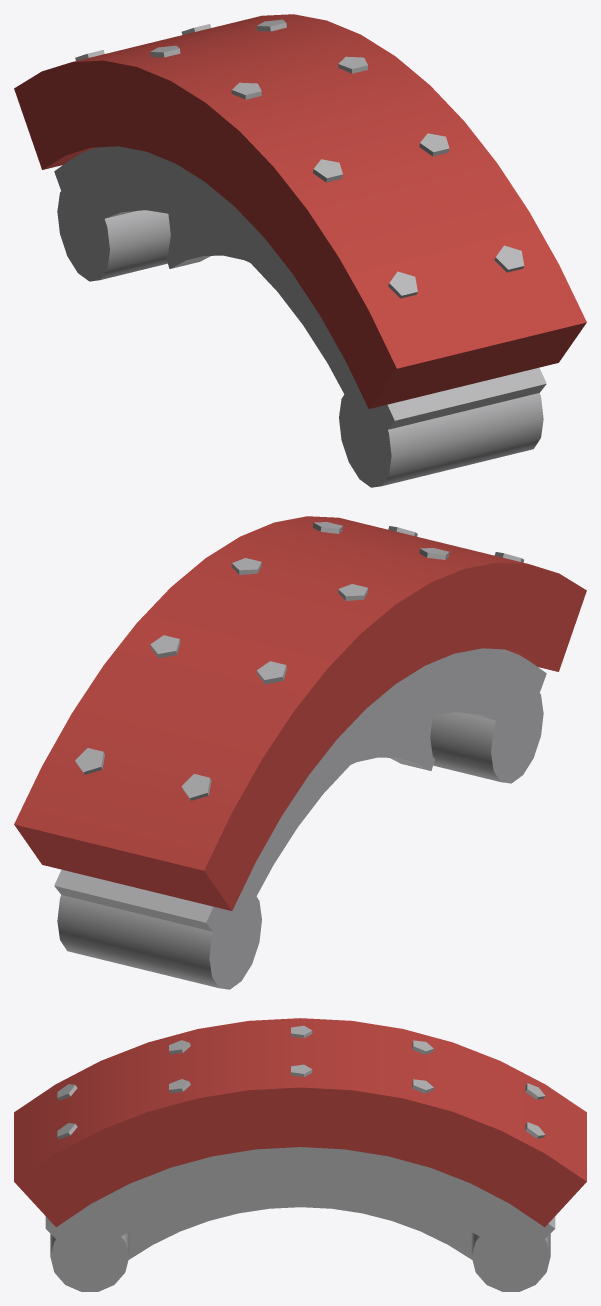
Rendered from drum_shoe.glb.
3 renders of one model, top to bottom at view 1: azimuth 30°, elevation 25°; view 2: azimuth 150°, elevation 25°; view 3: azimuth 270°, elevation 25°, orthographic. The views are drawn at different scales.
Visible parts, largest first — view 1: lod0; view 2: lod0; view 3: lod0.
Boxes of the visible parts, left/top/right/bottom form: lod0: left=14, top=14, right=586, bottom=487; lod0: left=14, top=516, right=586, bottom=989; lod0: left=14, top=1018, right=586, bottom=1291.
Size of what is drawn, in the model's own units: 0.025 by 0.036 by 0.0872.
